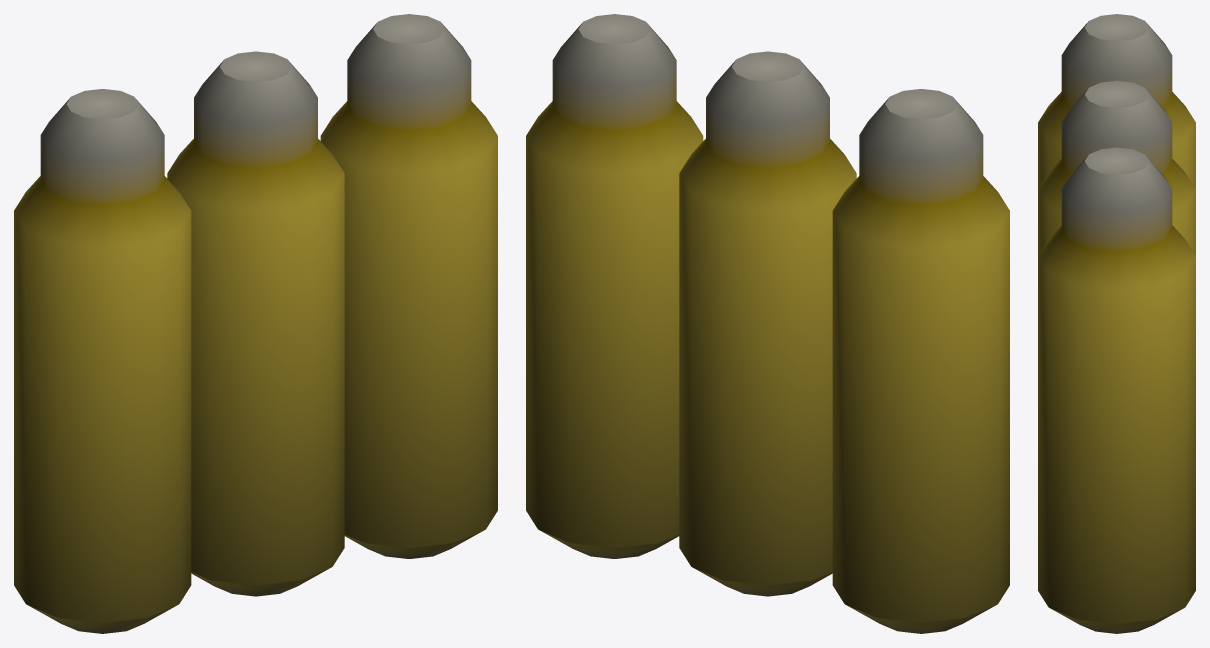
Rendered from Ammo_Pistol.fbx.
The picture shows the model from 3 angles, left to right: view 1: azimuth 30°, elevation 25°; view 2: azimuth 150°, elevation 25°; view 3: azimuth 270°, elevation 25°; orthographic projection. The views are drawn at different scales.
Visible parts, largest first — view 1: Pistol_Ammo; view 2: Pistol_Ammo; view 3: Pistol_Ammo.
Part boxes in pixels (<box>): Pistol_Ammo: <box>14,14,497,633</box>; Pistol_Ammo: <box>526,14,1009,633</box>; Pistol_Ammo: <box>1038,14,1195,633</box>.
Size of the model in its own units: 30 by 31.76 by 10.
